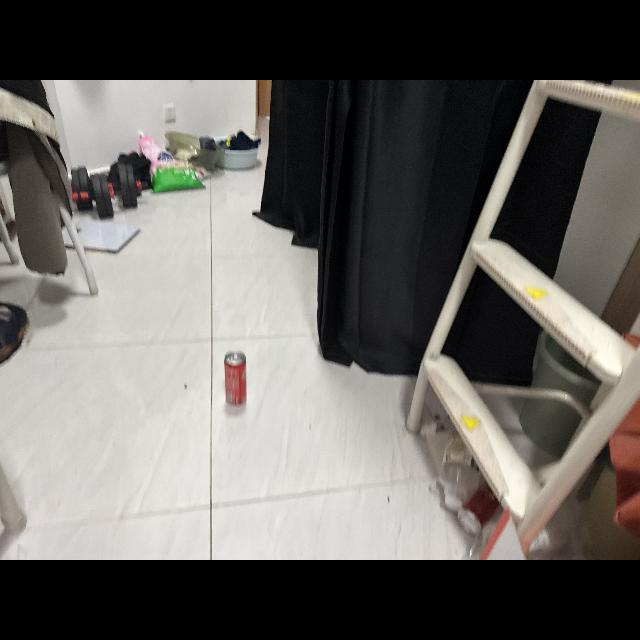Cola: (220, 342, 256, 410)
